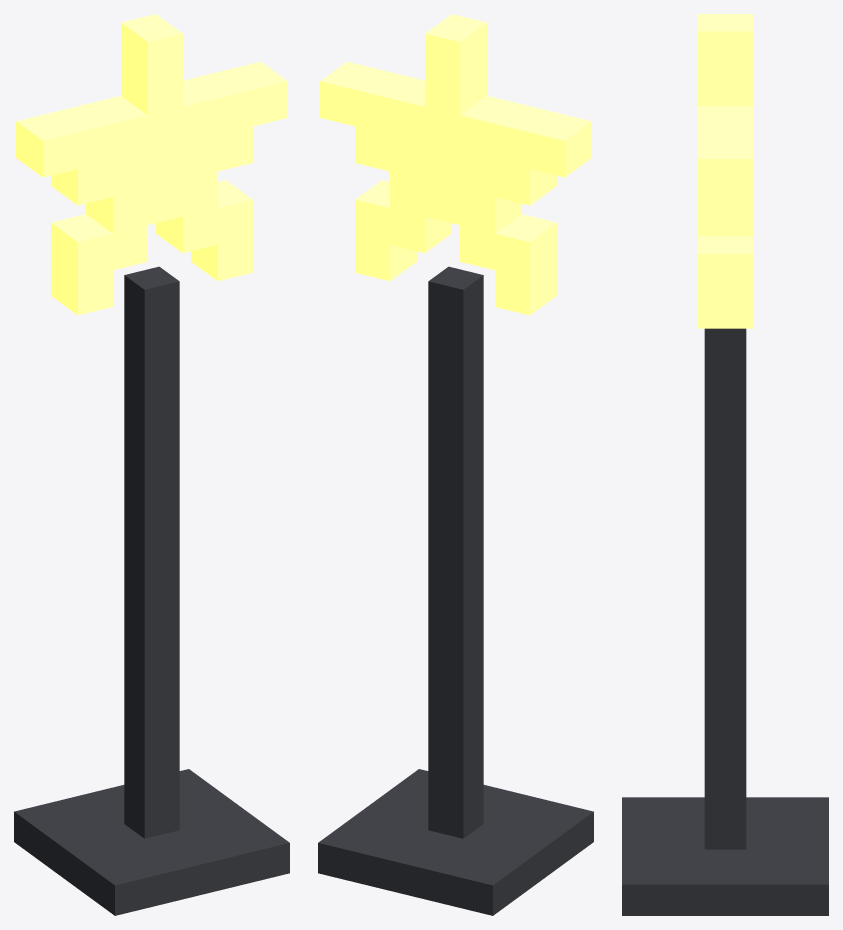
The model's file is ncb-garden-lamp-star.glb.
The picture shows the model from 3 angles, left to right: view 1: azimuth 30°, elevation 25°; view 2: azimuth 150°, elevation 25°; view 3: azimuth 270°, elevation 25°; orthographic projection. The views are drawn at different scales.
Parts seen in each view (by area): view 1: box-prop; view 2: box-prop; view 3: box-prop.
Boxes of the visible parts, box(x1,y1,x2,y2) form: box-prop: box(14, 14, 289, 915); box-prop: box(318, 14, 593, 915); box-prop: box(622, 14, 828, 915).
Size of the model in its own units: 0.84 by 2.72 by 0.6.
